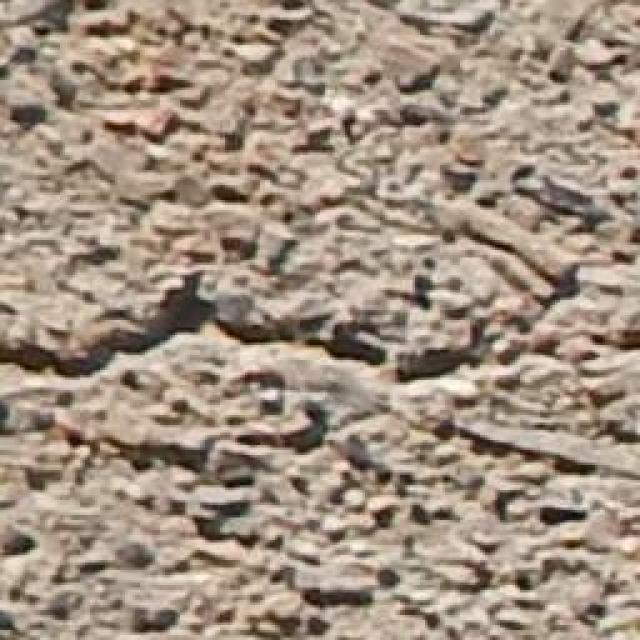concrete-crack: (0, 255, 640, 488)
